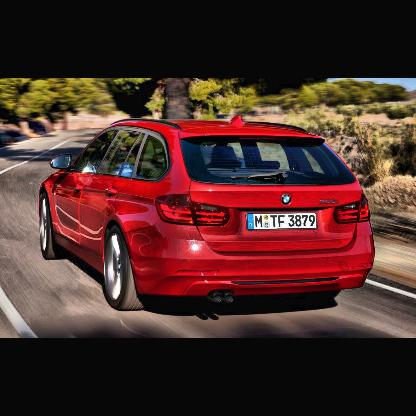BMW 3 Series Wagon 2012: (17, 109, 394, 319)
